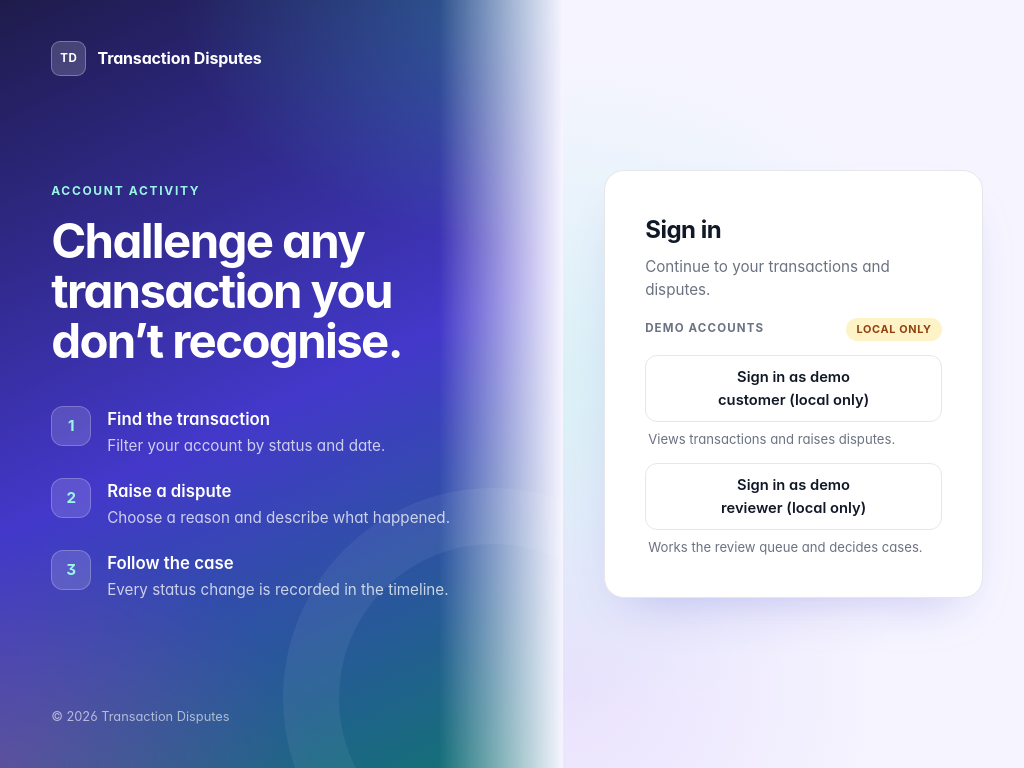
Scenario: LoginPage › shows an error when the demo sign-in fails
Click the button "Sign in as demo customer (local only)": x=794, y=389 [645,355,942,422]
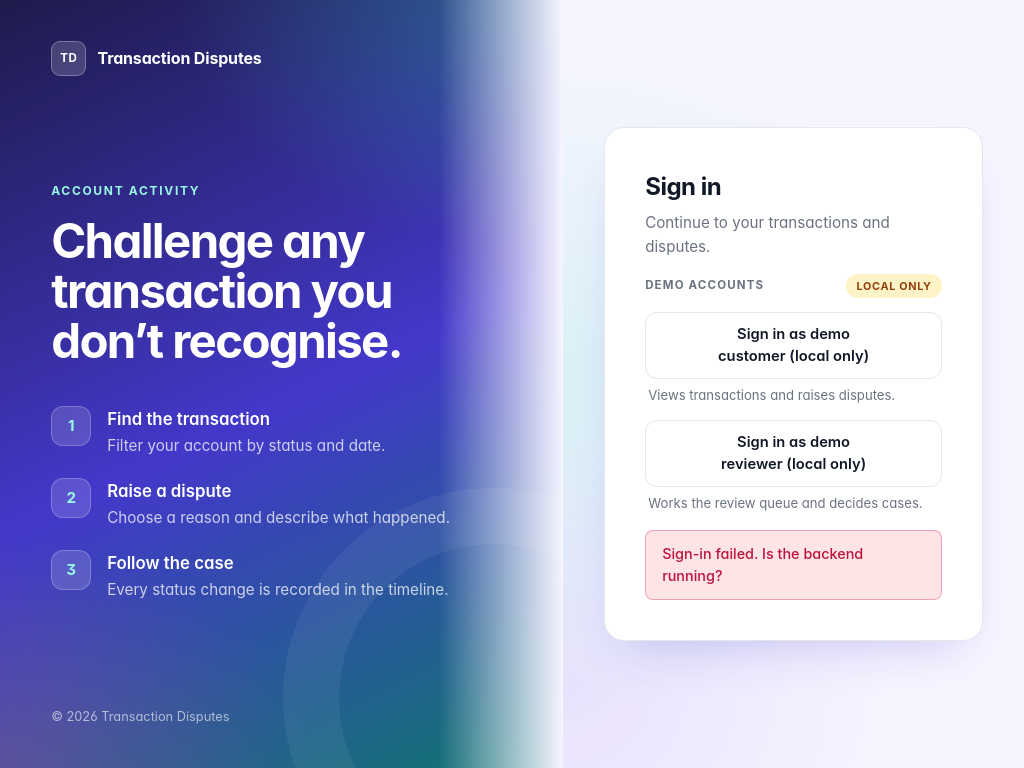
Expected: the message reads "Sign-in failed. Is the backend running?", [662,545,863,584]
